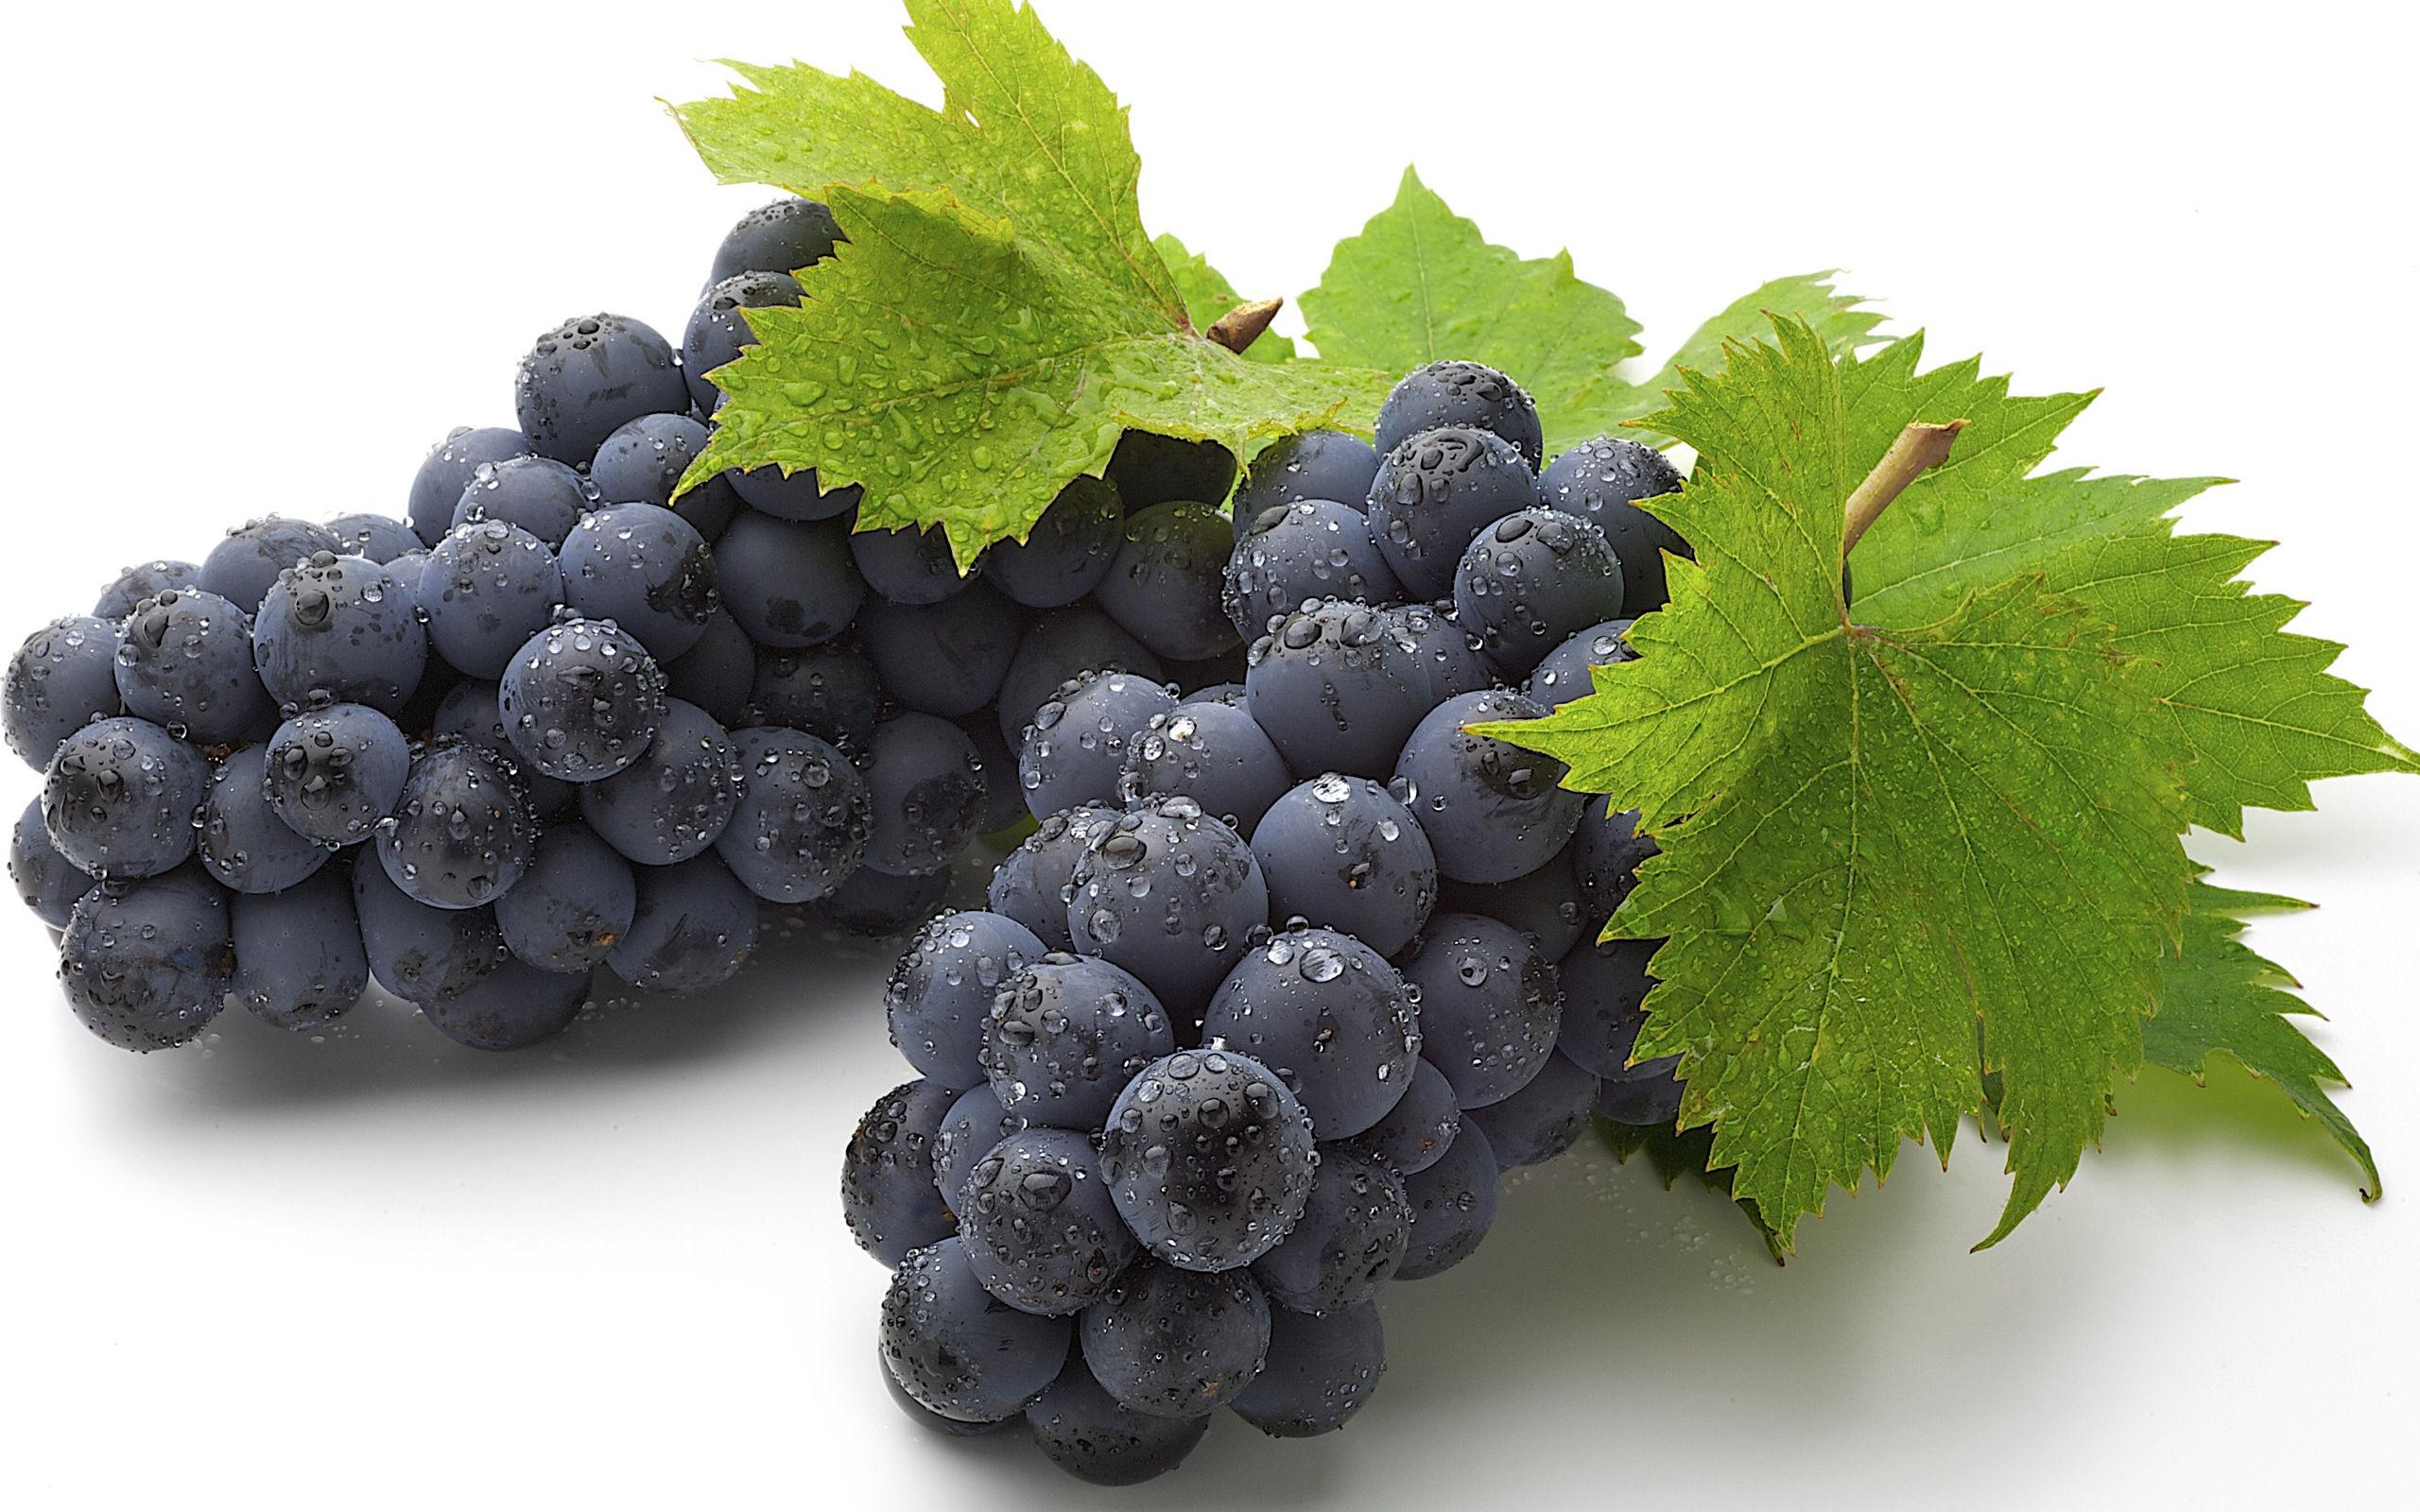grape: (847, 369, 1793, 1474), (28, 193, 1277, 986)
